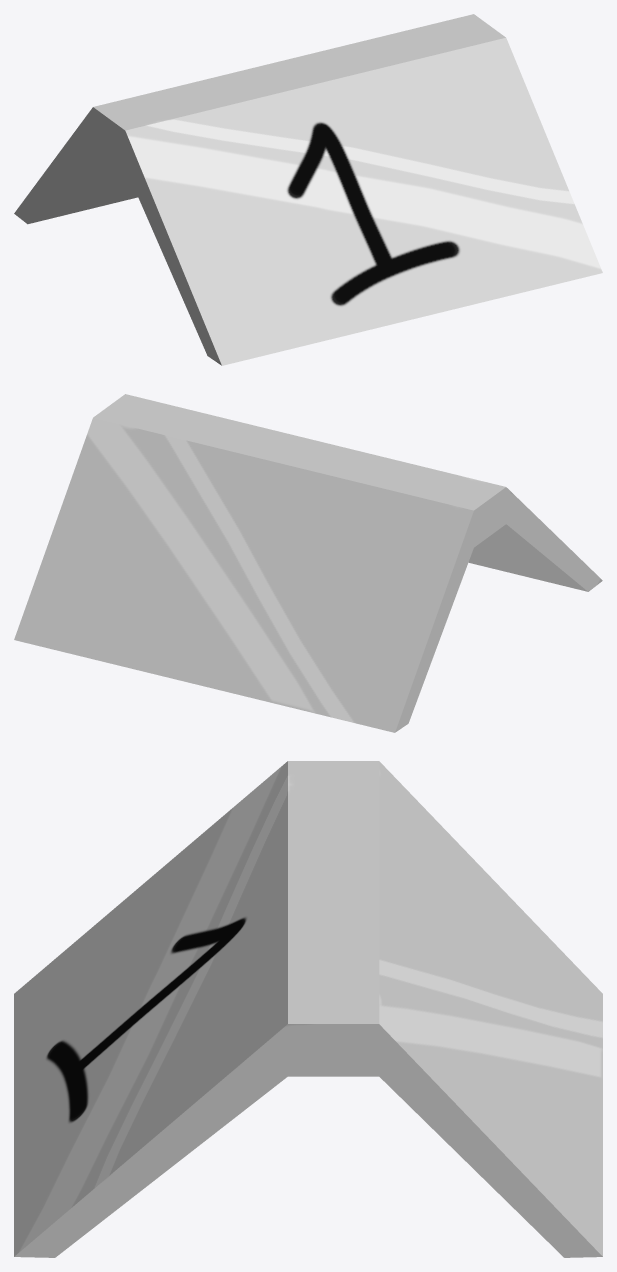
Rendered from MFC number card 1.fbx.
3 views of the same model, one above another, from view 1: azimuth 30°, elevation 25°; view 2: azimuth 150°, elevation 25°; view 3: azimuth 270°, elevation 25° (orthographic). The views are drawn at different scales.
Visible parts, largest first — view 1: Cube; view 2: Cube; view 3: Cube.
Part boxes in pixels (x1,y1,x2,y2): Cube: (14,14,602,365); Cube: (14,394,602,732); Cube: (14,761,602,1257).
Bounding box in the file's own units: 104 × 43.05 × 98.27.
